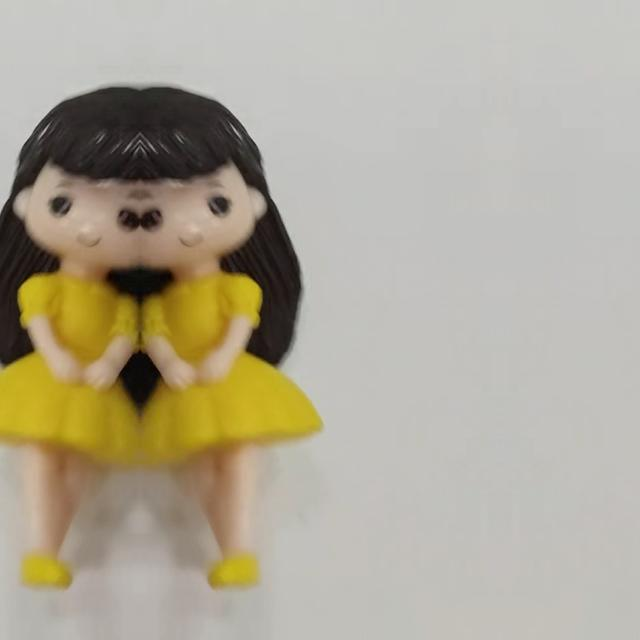woman dress: (142, 269, 322, 606), (0, 269, 138, 606)
